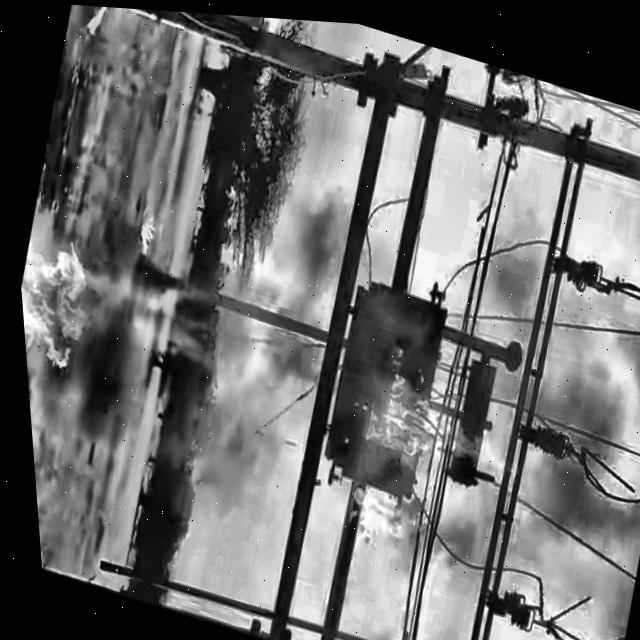Fire: (302, 303, 543, 575), (12, 207, 109, 403)
